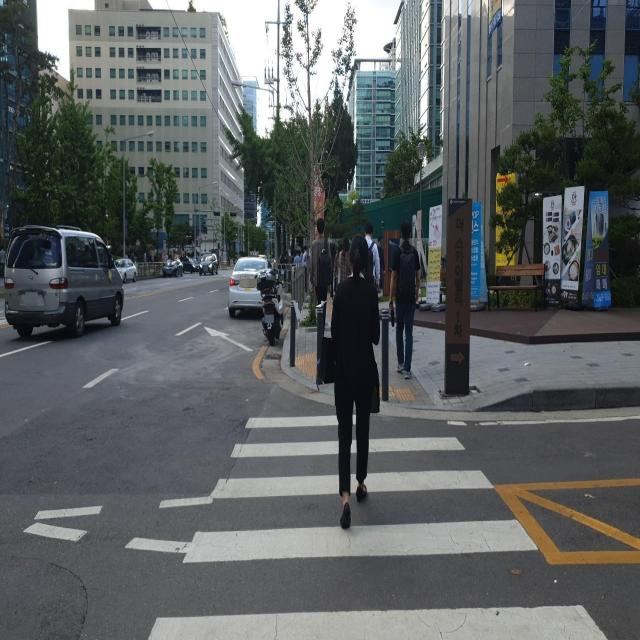횡단보도: (146, 411, 614, 640)
